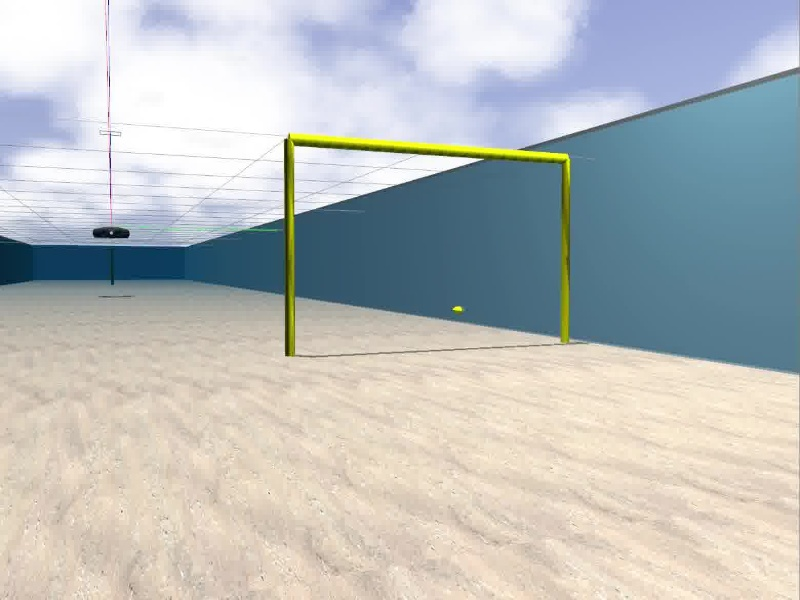gate: (280, 130, 573, 357)
